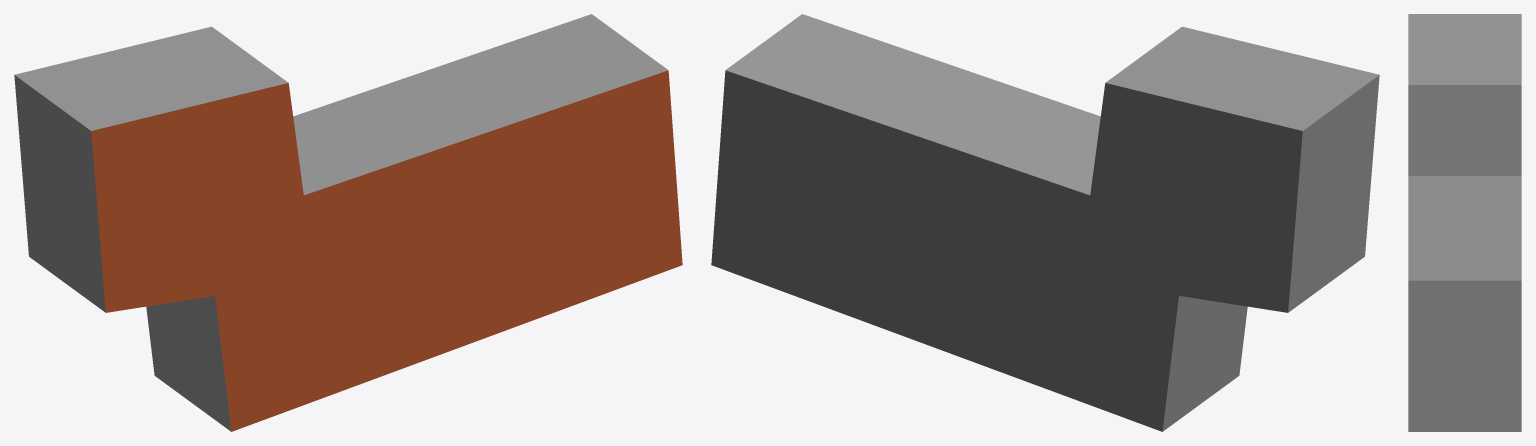
File: construction_7031_assumed_A_Casa_h6m.obj
3 renders of one model, left to right at view 1: azimuth 30°, elevation 25°; view 2: azimuth 150°, elevation 25°; view 3: azimuth 270°, elevation 25°, orthographic. The views are drawn at different scales.
Visible parts, largest first — view 1: construction_7031_assumed_A_Casa; view 2: construction_7031_assumed_A_Casa; view 3: construction_7031_assumed_A_Casa.
Part boxes in pixels (x1,y1,x2,y2): construction_7031_assumed_A_Casa: [14, 14, 682, 431]; construction_7031_assumed_A_Casa: [711, 14, 1379, 431]; construction_7031_assumed_A_Casa: [1408, 14, 1521, 431].
Bounding box in the file's own units: 26.65 × 14.43 × 6.
